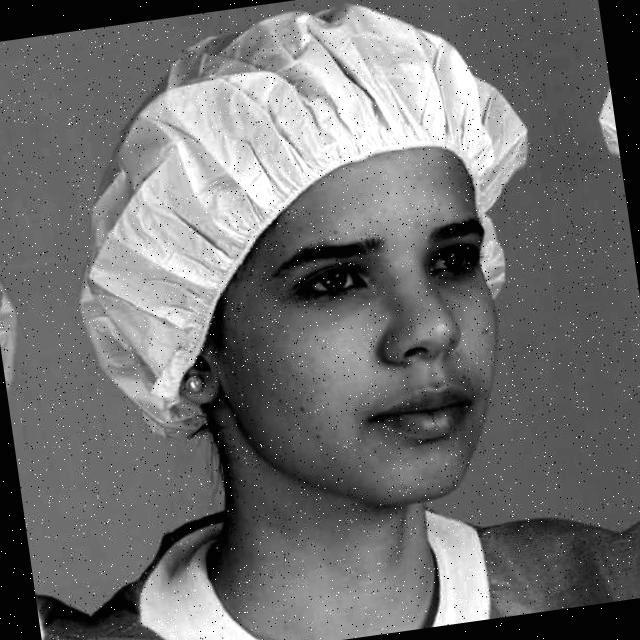gloves: (126, 11, 502, 260)
no_hairnet: (374, 300, 472, 478)
